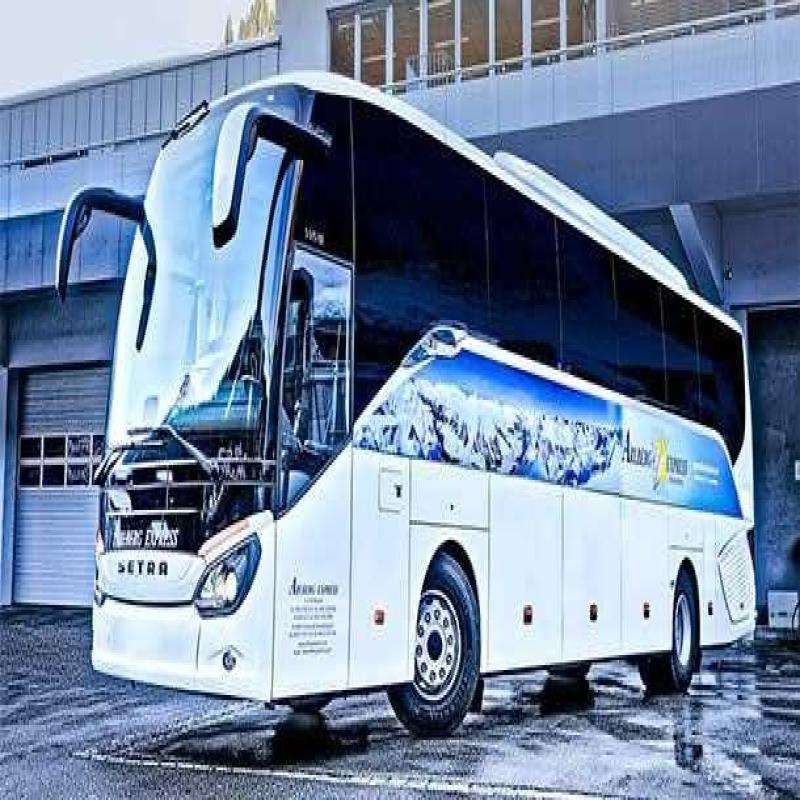bus: (62, 70, 789, 760)
